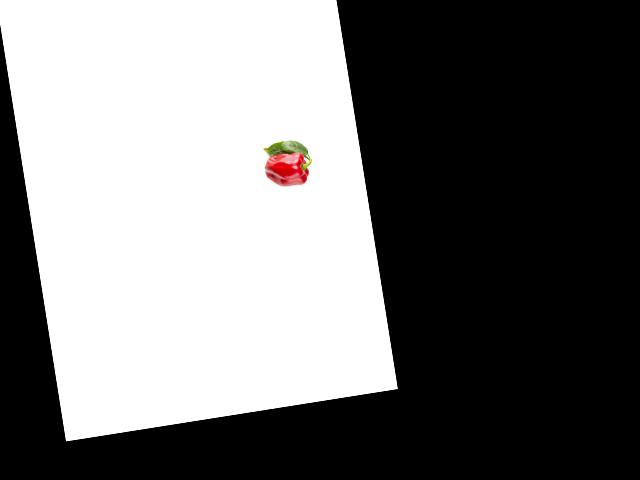bell_pepper: (260, 147, 315, 194)
